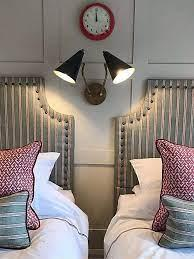bed: (0, 75, 88, 259), (110, 73, 193, 259)
clock: (76, 4, 118, 41)
light: (54, 44, 94, 105), (96, 49, 136, 101)
